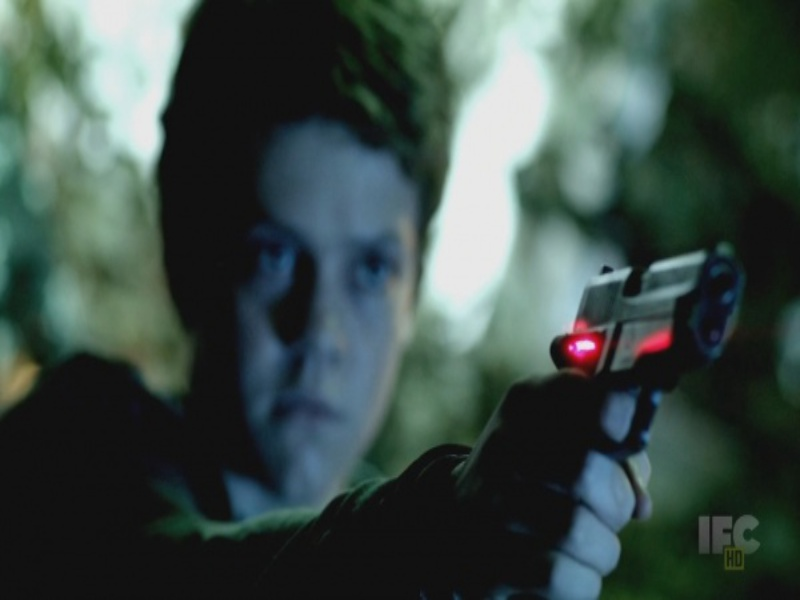person: (1, 5, 642, 599)
weapon: (560, 240, 744, 458)
